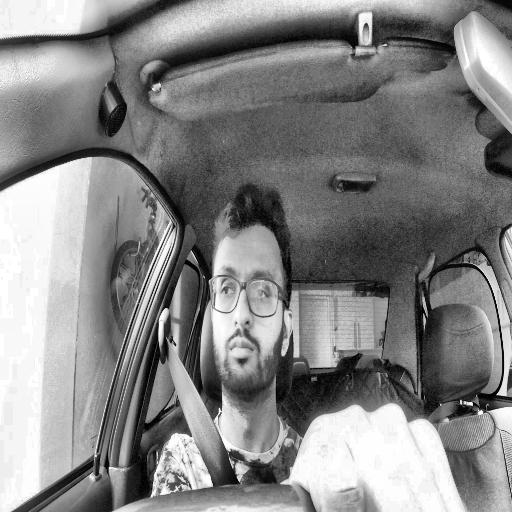awake: (207, 185, 294, 401)
